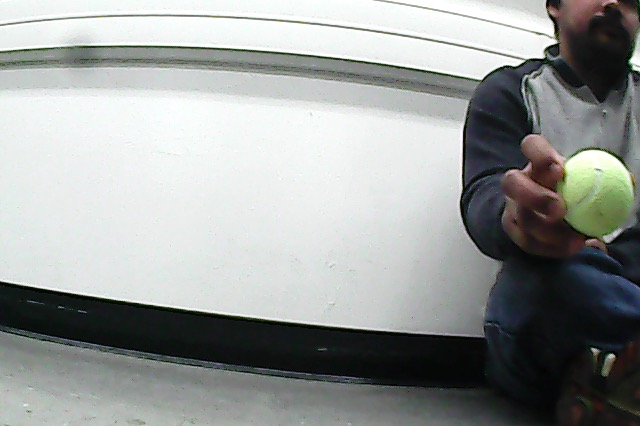ball: (554, 144, 636, 241)
